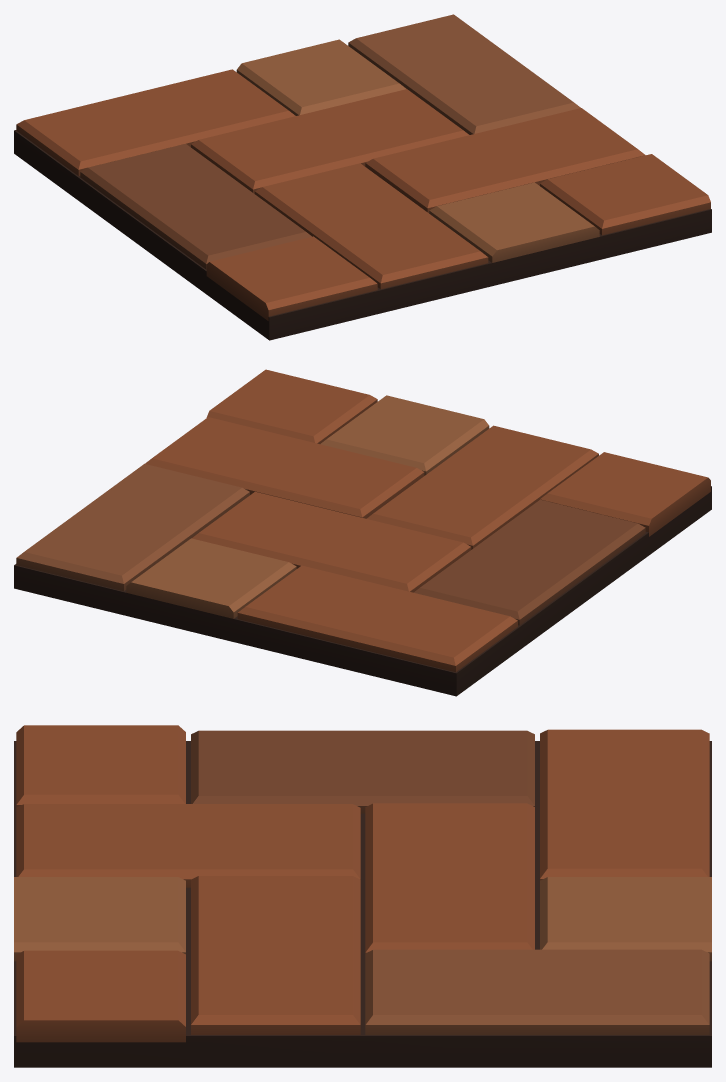
The model's file is floor_parquet_small_A.glb.
3 renders of one model, top to bottom at view 1: azimuth 30°, elevation 25°; view 2: azimuth 150°, elevation 25°; view 3: azimuth 270°, elevation 25°, orthographic. The views are drawn at different scales.
Visible parts, largest first — view 1: Item; view 2: Item; view 3: Item.
Part boxes in pixels (x1,y1,x2,y2): Item: [14, 14, 711, 340]; Item: [14, 369, 711, 696]; Item: [14, 725, 711, 1067].
Size of the model in its own units: 2 by 0.1535 by 2.
Materials: 1 (1 with a texture image).
